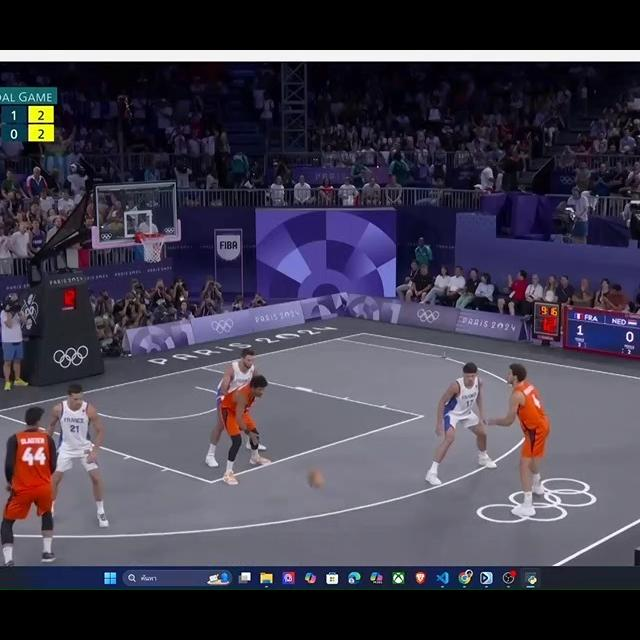basketball: (305, 467, 328, 492)
hoop: (137, 230, 168, 264)
